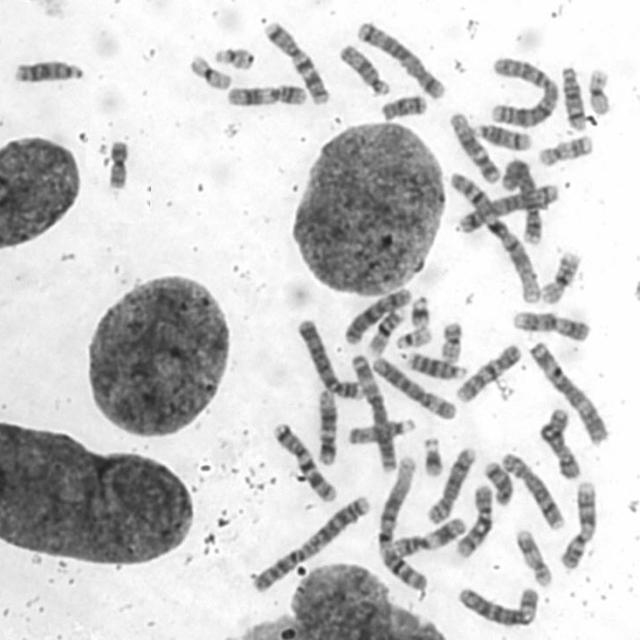A1: (446, 168, 542, 306), (374, 453, 430, 592)
A2: (248, 492, 373, 595), (486, 52, 560, 128)
A3: (526, 337, 610, 446), (347, 351, 398, 474)
B4: (295, 315, 364, 403), (498, 158, 544, 248)
B5: (354, 16, 446, 100), (452, 179, 560, 235)
C10: (452, 340, 522, 405), (451, 481, 494, 559)
C11: (389, 513, 467, 558), (224, 81, 308, 108)
C12: (447, 108, 501, 185), (312, 387, 338, 467)
C6: (370, 352, 457, 422), (454, 582, 541, 628)
C7: (260, 18, 332, 105), (270, 419, 339, 503)
C8: (498, 448, 566, 532), (424, 444, 478, 524)
C9: (557, 477, 599, 570), (509, 306, 592, 344)
D13: (404, 348, 467, 381), (10, 57, 84, 85)
D14: (558, 62, 588, 132), (470, 120, 533, 152)
D15: (337, 41, 392, 98), (344, 413, 418, 448)
E16: (537, 248, 584, 305), (363, 305, 406, 356)
E17: (514, 525, 554, 587), (534, 130, 596, 168)
E18: (480, 457, 514, 506), (378, 92, 428, 122)
F19: (186, 52, 232, 90), (585, 64, 612, 117)
F20: (104, 136, 131, 192), (436, 318, 464, 364)
G21: (420, 433, 444, 478), (407, 292, 432, 329)
G22: (392, 323, 435, 351), (215, 45, 255, 72)
X: (340, 285, 414, 346), (537, 406, 583, 481)
